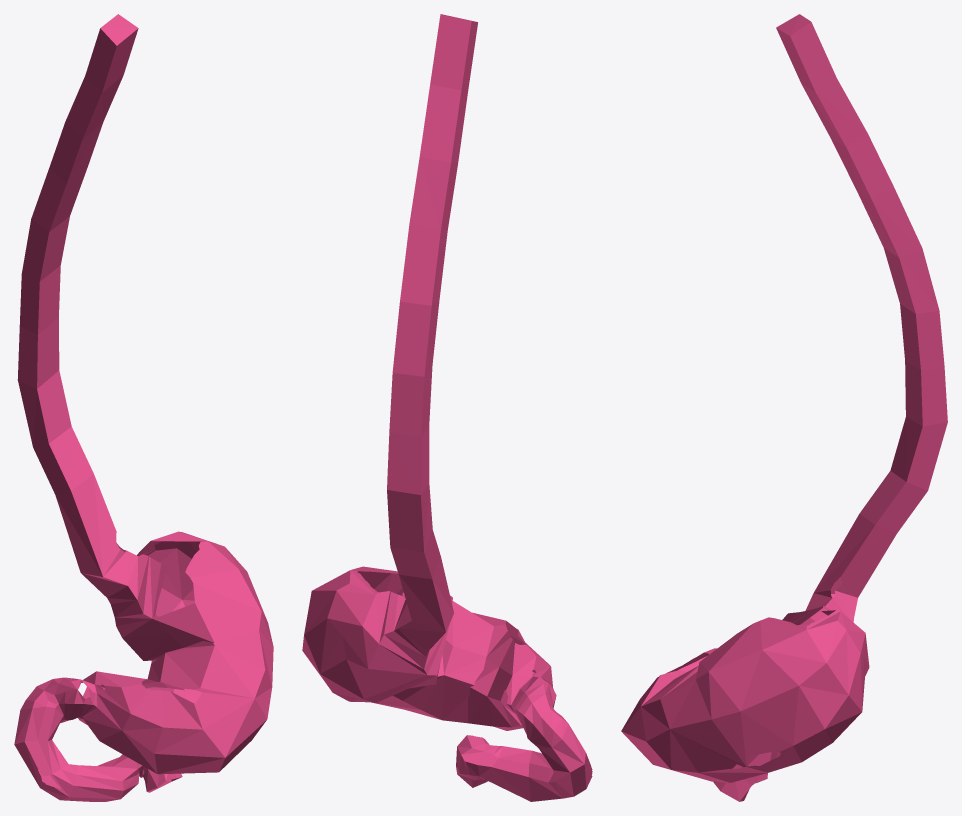
File: stomach.gltf
3 views of the same model, side by side, from view 1: azimuth 30°, elevation 25°; view 2: azimuth 150°, elevation 25°; view 3: azimuth 270°, elevation 25° (orthographic). The views are drawn at different scales.
Parts seen in each view (by area): view 1: node_id32.001; view 2: node_id32.001; view 3: node_id32.001.
Part boxes in pixels (x1=…): node_id32.001: x1=14, y1=14, x2=273, y2=801; node_id32.001: x1=302, y1=14, x2=592, y2=801; node_id32.001: x1=621, y1=14, x2=947, y2=801.
Size of the model in its own units: 1.42 by 4.18 by 1.59.
